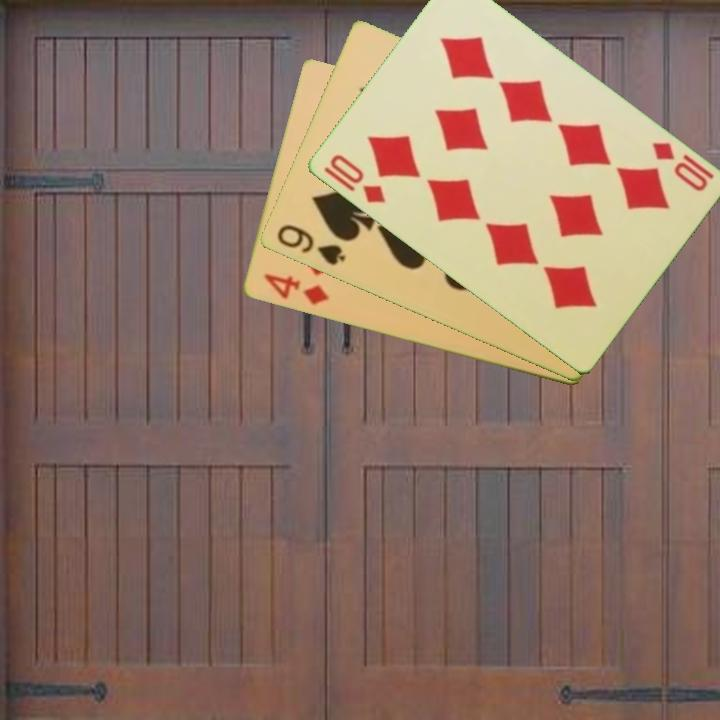10d: (320, 150, 389, 207), (647, 138, 710, 195)
4d: (259, 270, 331, 308)
9s: (273, 221, 348, 269)
